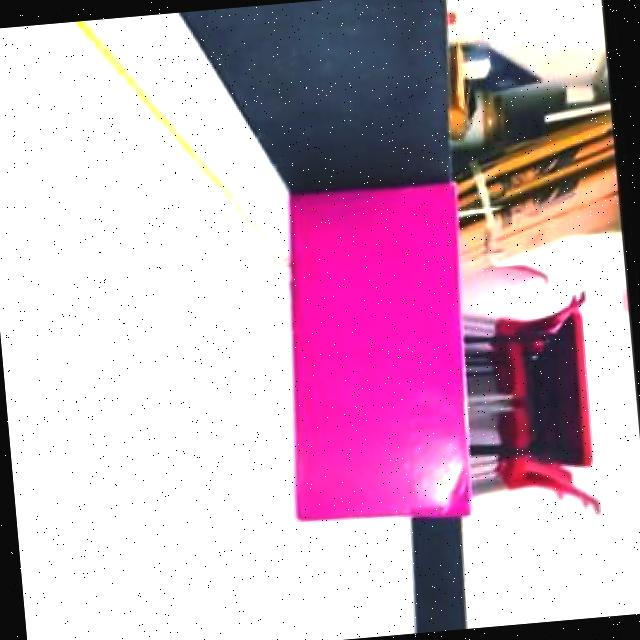xparking: (264, 177, 476, 530)
